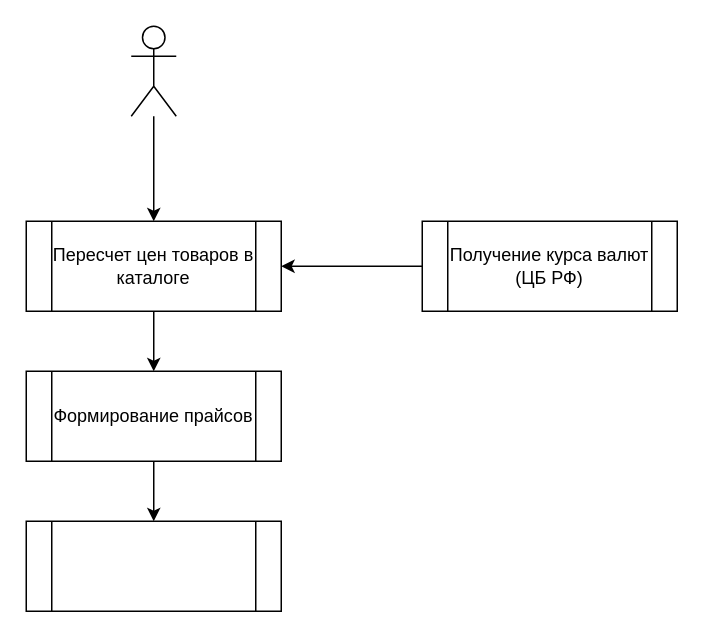
Image size: 704x638. Some labels were removed from this diagram. The shapes that lost their labels are listed below. From the top down, each one's box as (x1, y1, x2, y2) in pixels, then its label:
(130, 25, 176, 116): Actor
(25, 520, 281, 611): Отправка новых прайсов клиентам
